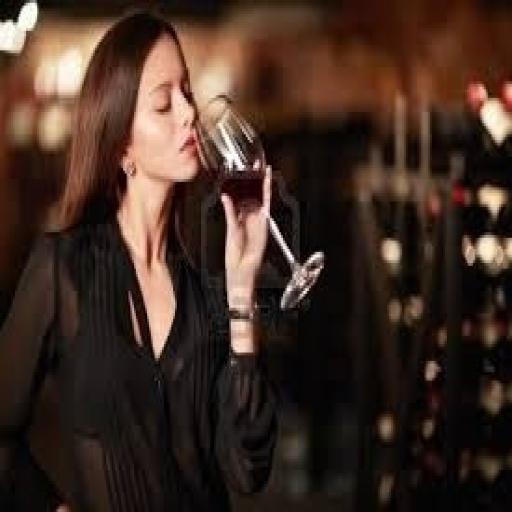drinking: (192, 92, 324, 314)
